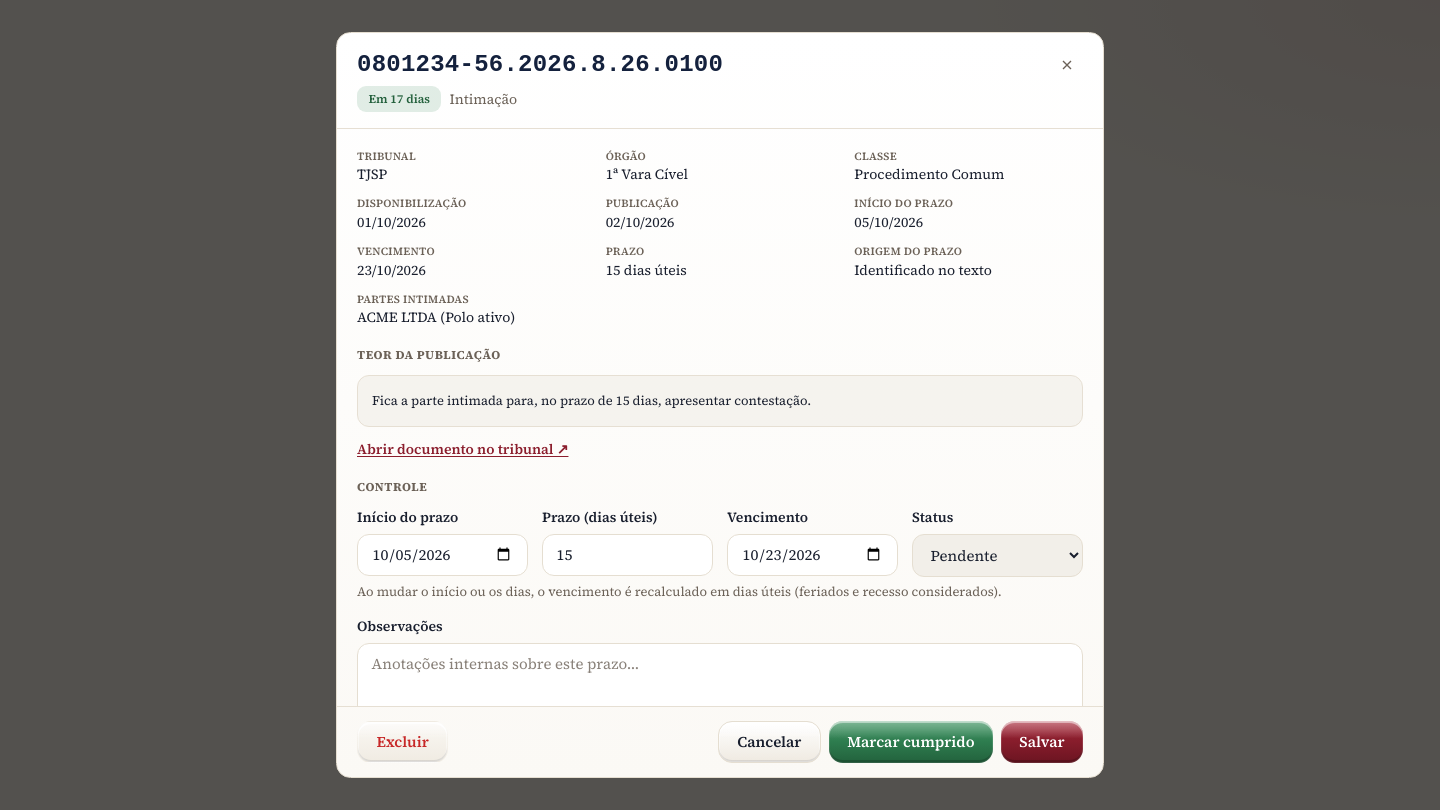
Test case: ModalPrazo › considera feriados locais no recálculo
Replace the text in the number field labelled "Prazo (dias úteis)" with "2" at (628, 555), box [542,534,713,576]
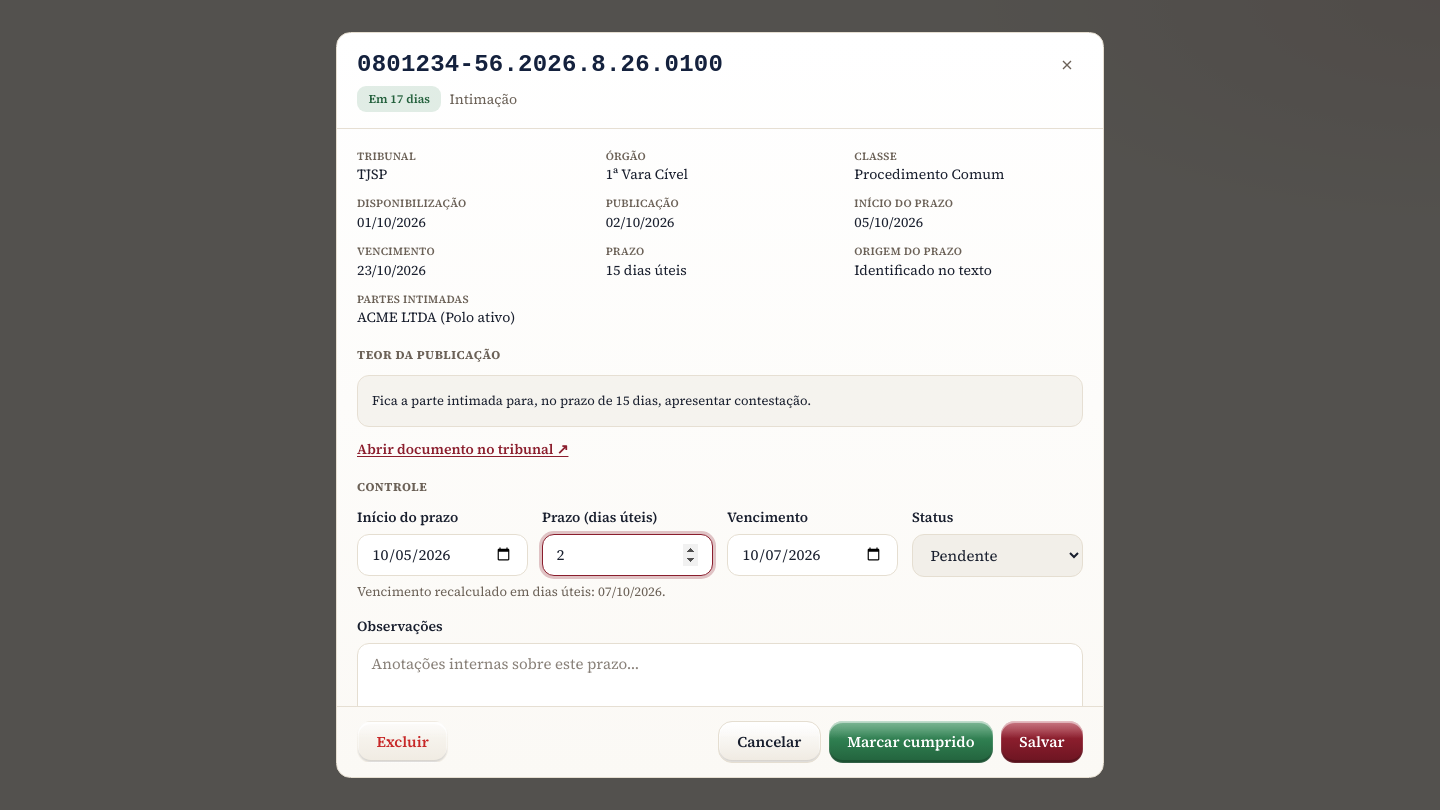
Result: the date field labelled "Vencimento" holds "2026-10-07" at [727,534,898,576]
